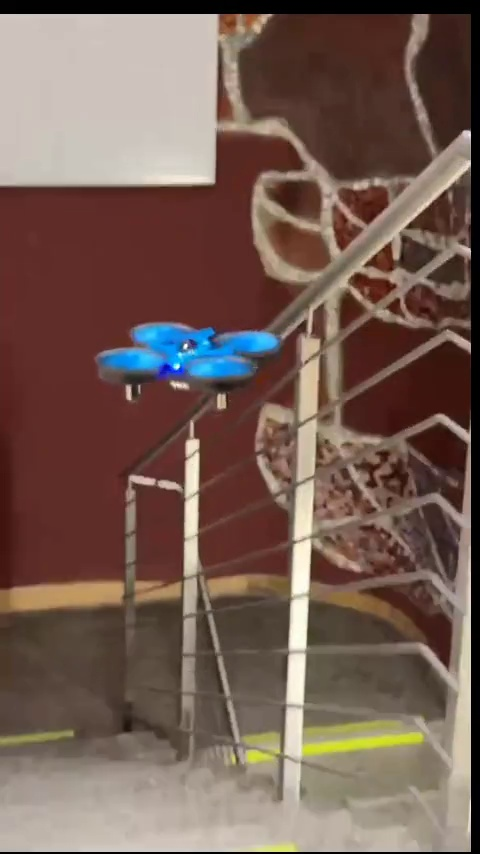drone: (96, 320, 286, 407)
